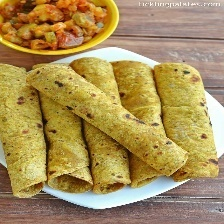roti: (1, 61, 220, 196)
